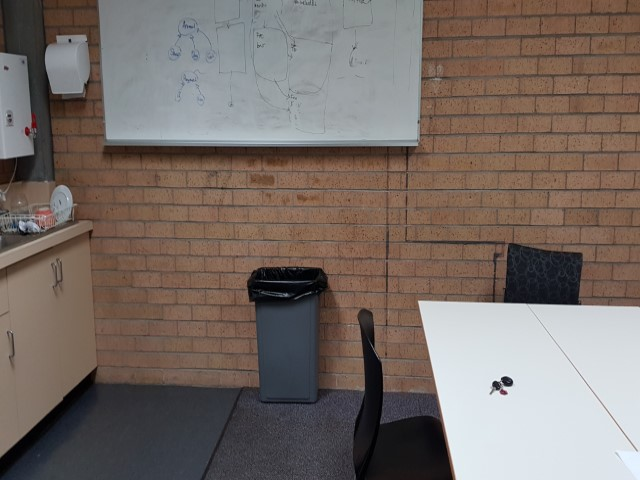key: (488, 380, 501, 396)
